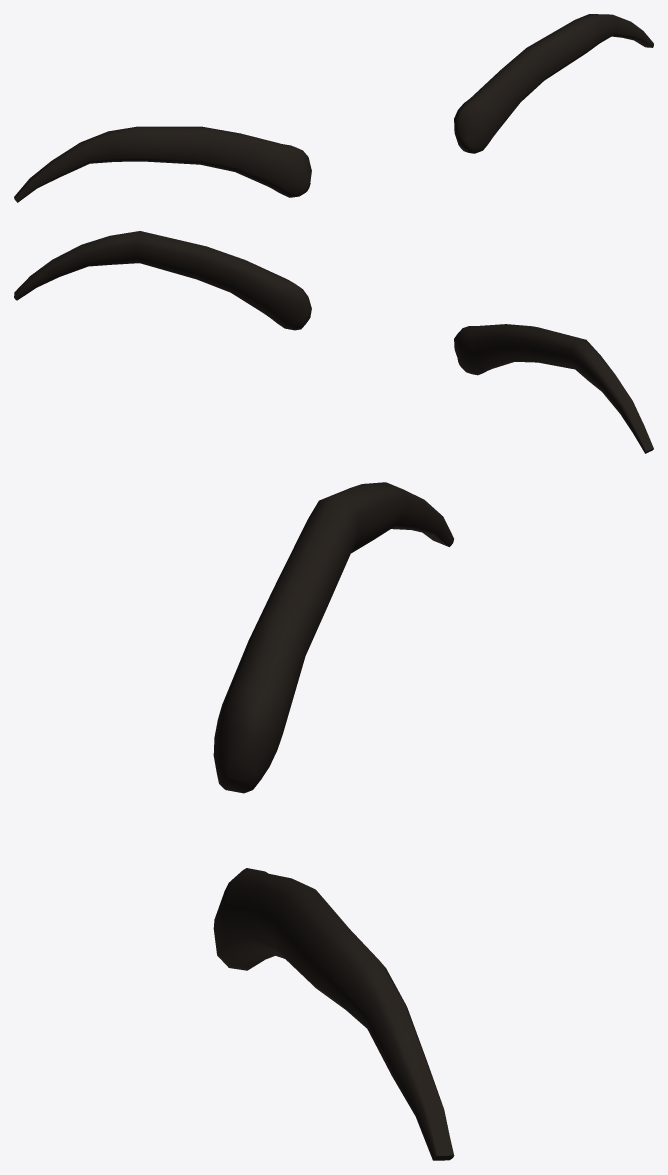
The model's file is Eyebrows_04_01.fbx.
3 renders of one model, top to bottom at view 1: azimuth 30°, elevation 25°; view 2: azimuth 150°, elevation 25°; view 3: azimuth 270°, elevation 25°, orthographic. The views are drawn at different scales.
Visible parts, largest first — view 1: Eyebrows_04_01; view 2: Eyebrows_04_01; view 3: Eyebrows_04_01.
Boxes of the visible parts, x1,y1,x2,y2 form: Eyebrows_04_01: (14, 14, 653, 202); Eyebrows_04_01: (14, 231, 653, 453); Eyebrows_04_01: (213, 482, 454, 1160).
Size of the model in its own units: 19.76 by 2.45 by 3.22.
